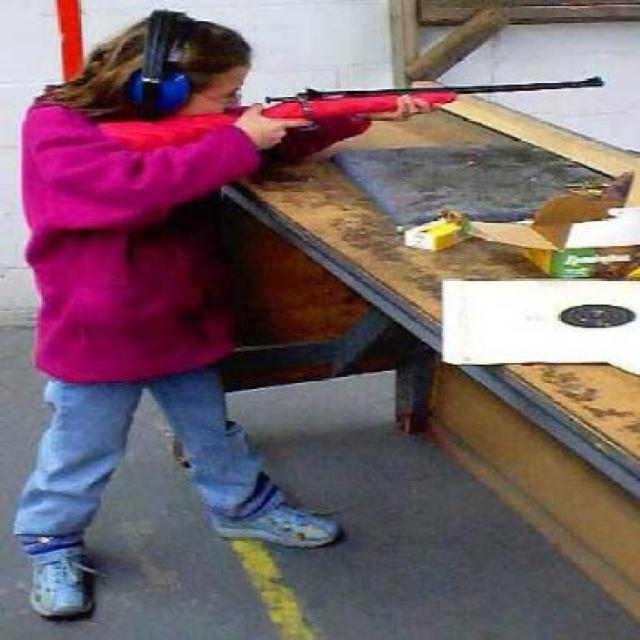weapon: (255, 85, 608, 118)
